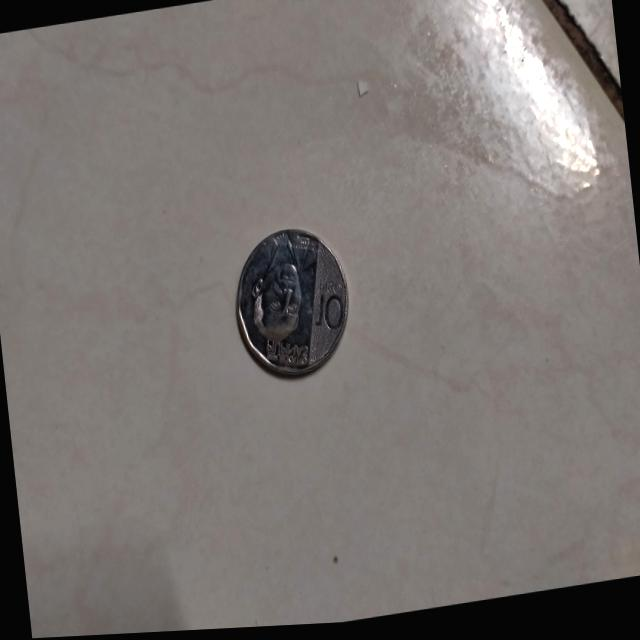10_New_Front: (234, 225, 357, 386)
